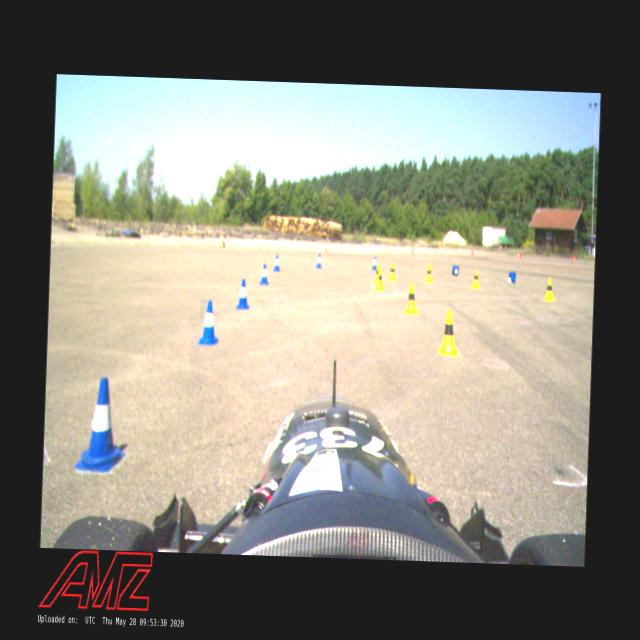blue_cone: (73, 376, 128, 472), (198, 299, 220, 345), (235, 278, 250, 310), (258, 263, 268, 285), (272, 254, 280, 272), (315, 252, 322, 269), (508, 270, 516, 284), (452, 264, 459, 274), (372, 256, 377, 270)
orange_cone: (515, 252, 521, 258), (324, 247, 330, 252), (412, 247, 416, 254), (220, 241, 224, 247), (572, 256, 576, 262), (470, 250, 474, 255)
yellow_cone: (438, 308, 459, 356), (404, 282, 419, 314), (374, 266, 384, 290), (544, 277, 554, 301), (470, 268, 480, 288), (373, 262, 382, 284), (423, 263, 432, 283), (388, 262, 397, 280)
